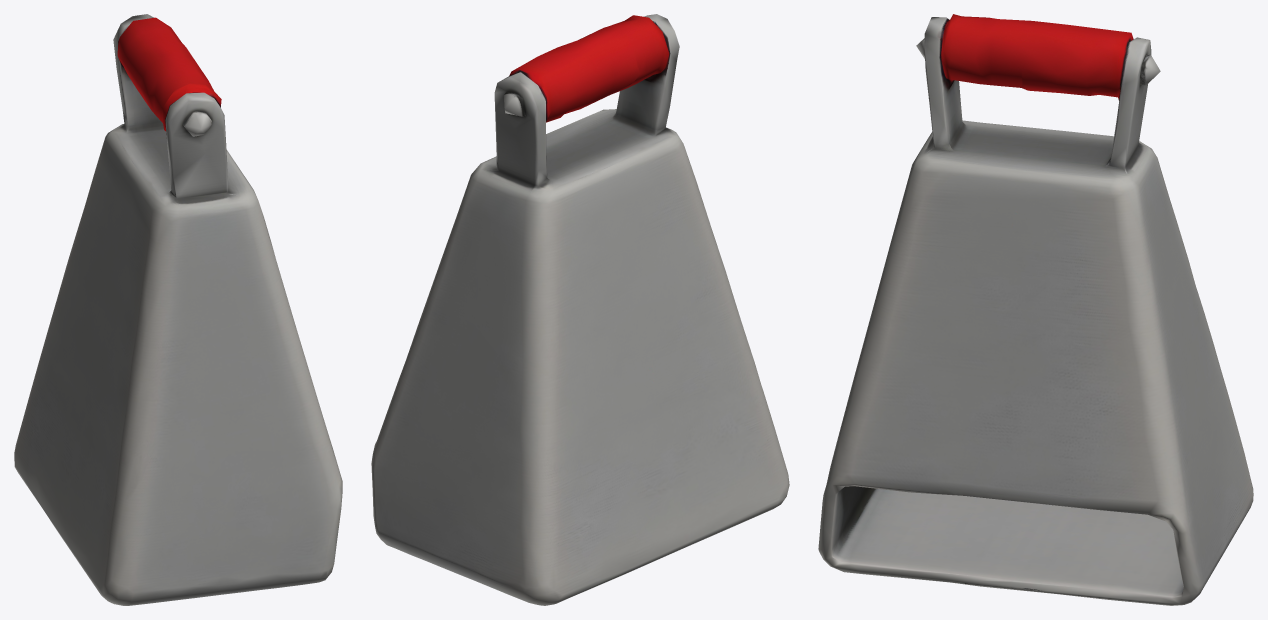
Rendered from cowbell.glb.
The picture shows the model from 3 angles, left to right: view 1: azimuth 30°, elevation 25°; view 2: azimuth 150°, elevation 25°; view 3: azimuth 270°, elevation 25°; orthographic projection. The views are drawn at different scales.
Visible parts, largest first — view 1: tripo_node_67242830-fbe2-465f-b955-f57c35e3a7b8; view 2: tripo_node_67242830-fbe2-465f-b955-f57c35e3a7b8; view 3: tripo_node_67242830-fbe2-465f-b955-f57c35e3a7b8.
Boxes of the visible parts, x1,y1,x2,y2 form: tripo_node_67242830-fbe2-465f-b955-f57c35e3a7b8: (14,14,342,605); tripo_node_67242830-fbe2-465f-b955-f57c35e3a7b8: (371,14,789,605); tripo_node_67242830-fbe2-465f-b955-f57c35e3a7b8: (818,14,1253,605).
Bounding box in the file's own units: 0.603 × 0.998 × 0.7636.
Materials: 1 (1 with a texture image).
